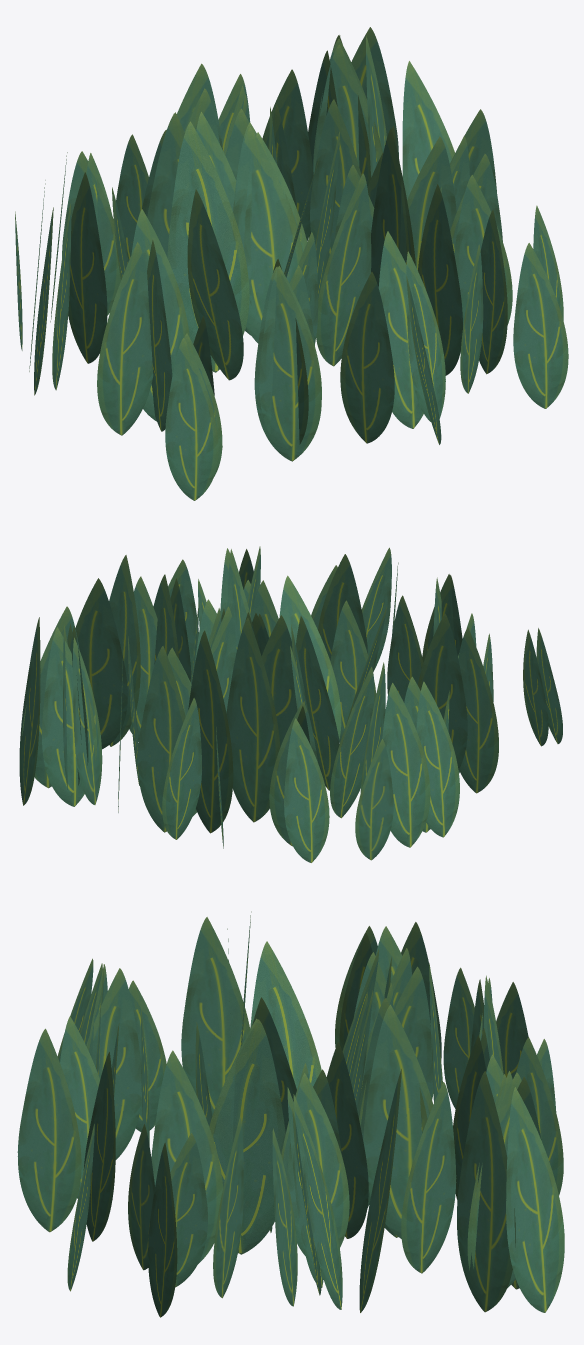
File: tall_grass.fbx
The picture shows the model from 3 angles, top to bottom: view 1: azimuth 30°, elevation 25°; view 2: azimuth 150°, elevation 25°; view 3: azimuth 270°, elevation 25°; orthographic projection. The views are drawn at different scales.
Visible parts, largest first — view 1: eucalyptus_leaf.023, eucalyptus_leaf.005, eucalyptus_leaf.009, eucalyptus_leaf.059, eucalyptus_leaf.065, eucalyptus_leaf.069, eucalyptus_leaf.070, eucalyptus_leaf.048, eucalyptus_leaf.018, eucalyptus_leaf.041, eucalyptus_leaf.003, eucalyptus_leaf.012 (+42 smaller); view 2: eucalyptus_leaf.053, eucalyptus_leaf.034, eucalyptus_leaf.066, eucalyptus_leaf.006, eucalyptus_leaf.061, eucalyptus_leaf.019, eucalyptus_leaf.029, eucalyptus_leaf.005, eucalyptus_leaf.008, eucalyptus_leaf.047, eucalyptus_leaf.037, eucalyptus_leaf.042 (+34 smaller); view 3: eucalyptus_leaf.025, eucalyptus_leaf.021, eucalyptus_leaf.015, eucalyptus_leaf.014, eucalyptus_leaf.056, eucalyptus_leaf.063, eucalyptus_leaf.044, eucalyptus_leaf.003, eucalyptus_leaf.017, eucalyptus_leaf.018, eucalyptus_leaf.010, eucalyptus_leaf.020 (+38 smaller).
Boxes of the visible parts, x1=… form: eucalyptus_leaf.023: x1=167, y1=121, x2=249, y2=372; eucalyptus_leaf.005: x1=97, y1=242, x2=153, y2=435; eucalyptus_leaf.009: x1=233, y1=127, x2=302, y2=343; eucalyptus_leaf.059: x1=254, y1=266, x2=321, y2=461; eucalyptus_leaf.065: x1=340, y1=272, x2=394, y2=443; eucalyptus_leaf.069: x1=513, y1=243, x2=568, y2=408; eucalyptus_leaf.070: x1=165, y1=338, x2=218, y2=500; eucalyptus_leaf.048: x1=316, y1=173, x2=371, y2=366; eucalyptus_leaf.018: x1=187, y1=189, x2=243, y2=380; eucalyptus_leaf.041: x1=68, y1=172, x2=107, y2=363; eucalyptus_leaf.003: x1=418, y1=184, x2=462, y2=375; eucalyptus_leaf.012: x1=378, y1=231, x2=423, y2=428; eucalyptus_leaf.053: x1=226, y1=618, x2=280, y2=822; eucalyptus_leaf.034: x1=188, y1=630, x2=233, y2=833; eucalyptus_leaf.066: x1=75, y1=578, x2=127, y2=749; eucalyptus_leaf.006: x1=382, y1=683, x2=430, y2=847; eucalyptus_leaf.061: x1=138, y1=646, x2=185, y2=832; eucalyptus_leaf.019: x1=42, y1=627, x2=96, y2=806; eucalyptus_leaf.029: x1=284, y1=718, x2=329, y2=862; eucalyptus_leaf.005: x1=458, y1=628, x2=498, y2=793; eucalyptus_leaf.008: x1=416, y1=681, x2=459, y2=837; eucalyptus_leaf.047: x1=417, y1=614, x2=467, y2=769; eucalyptus_leaf.037: x1=162, y1=698, x2=201, y2=839; eucalyptus_leaf.042: x1=330, y1=667, x2=374, y2=818; eucalyptus_leaf.025: x1=506, y1=1087, x2=564, y2=1312; eucalyptus_leaf.021: x1=17, y1=1028, x2=81, y2=1232; eucalyptus_leaf.015: x1=457, y1=1071, x2=515, y2=1312; eucalyptus_leaf.014: x1=363, y1=1004, x2=433, y2=1238; eucalyptus_leaf.056: x1=232, y1=1019, x2=287, y2=1254; eucalyptus_leaf.063: x1=181, y1=917, x2=250, y2=1115; eucalyptus_leaf.044: x1=401, y1=1082, x2=456, y2=1273; eucalyptus_leaf.003: x1=151, y1=1050, x2=222, y2=1263; eucalyptus_leaf.017: x1=86, y1=968, x2=141, y2=1159; eucalyptus_leaf.018: x1=250, y1=941, x2=321, y2=1089; eucalyptus_leaf.010: x1=287, y1=1073, x2=349, y2=1255; eucalyptus_leaf.020: x1=170, y1=1133, x2=207, y2=1287.
Size of the model in its own units: 188 by 93.81 by 192.
